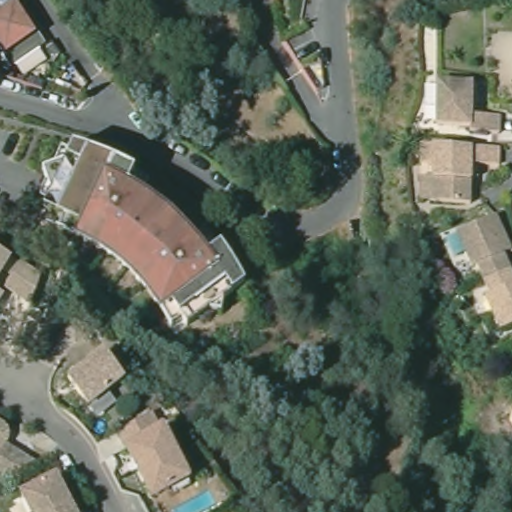pool: (169, 489, 222, 510), (445, 227, 469, 257), (91, 417, 107, 435)
